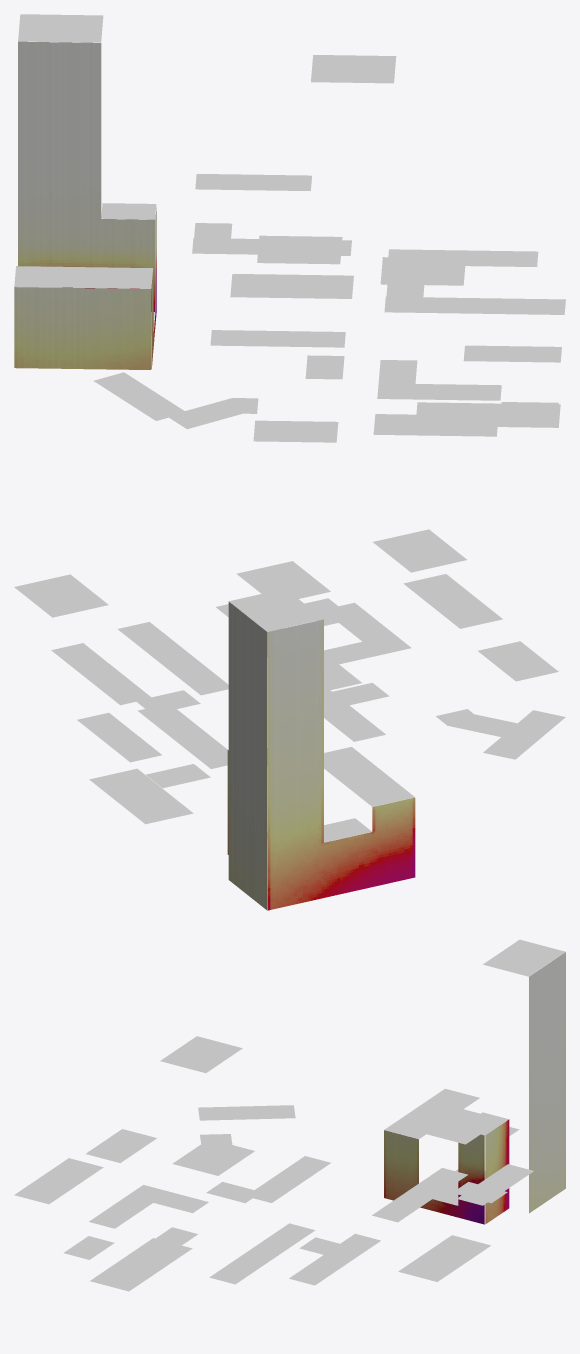
File: colors.gltf
3 views of the same model, one above another, from view 1: azimuth 30°, elevation 25°; view 2: azimuth 150°, elevation 25°; view 3: azimuth 270°, elevation 25° (orthographic). The views are drawn at different scales.
Visible parts, largest first — view 1: TransformZUpToYUp; view 2: TransformZUpToYUp; view 3: TransformZUpToYUp.
Boxes of the visible parts, box(x1,y1,x2,y2) form: TransformZUpToYUp: box(14, 14, 565, 442); TransformZUpToYUp: box(14, 529, 565, 910); TransformZUpToYUp: box(14, 939, 565, 1291).
Bounding box in the file's own units: 171 × 101 × 213.
